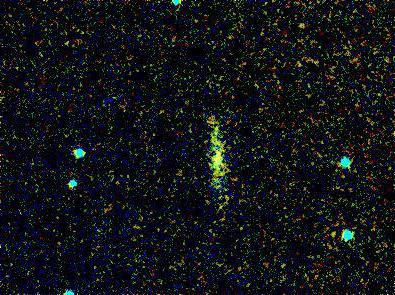star: (317, 216, 347, 246)
